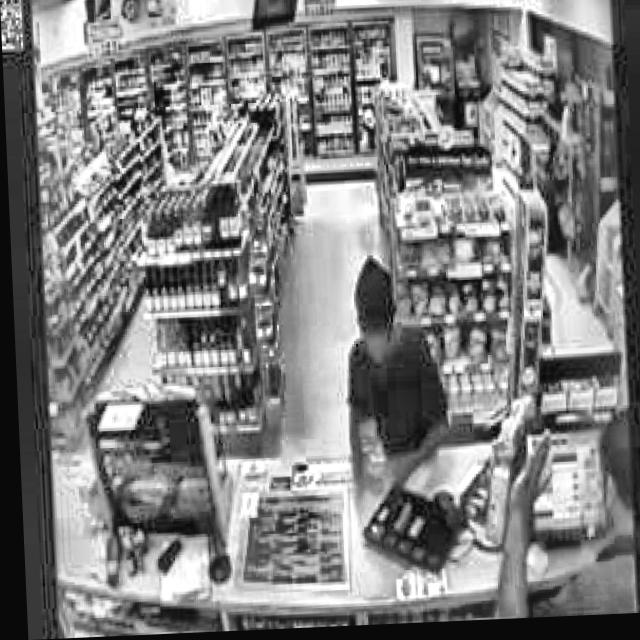robbery: (333, 252, 454, 542), (478, 411, 629, 624)
